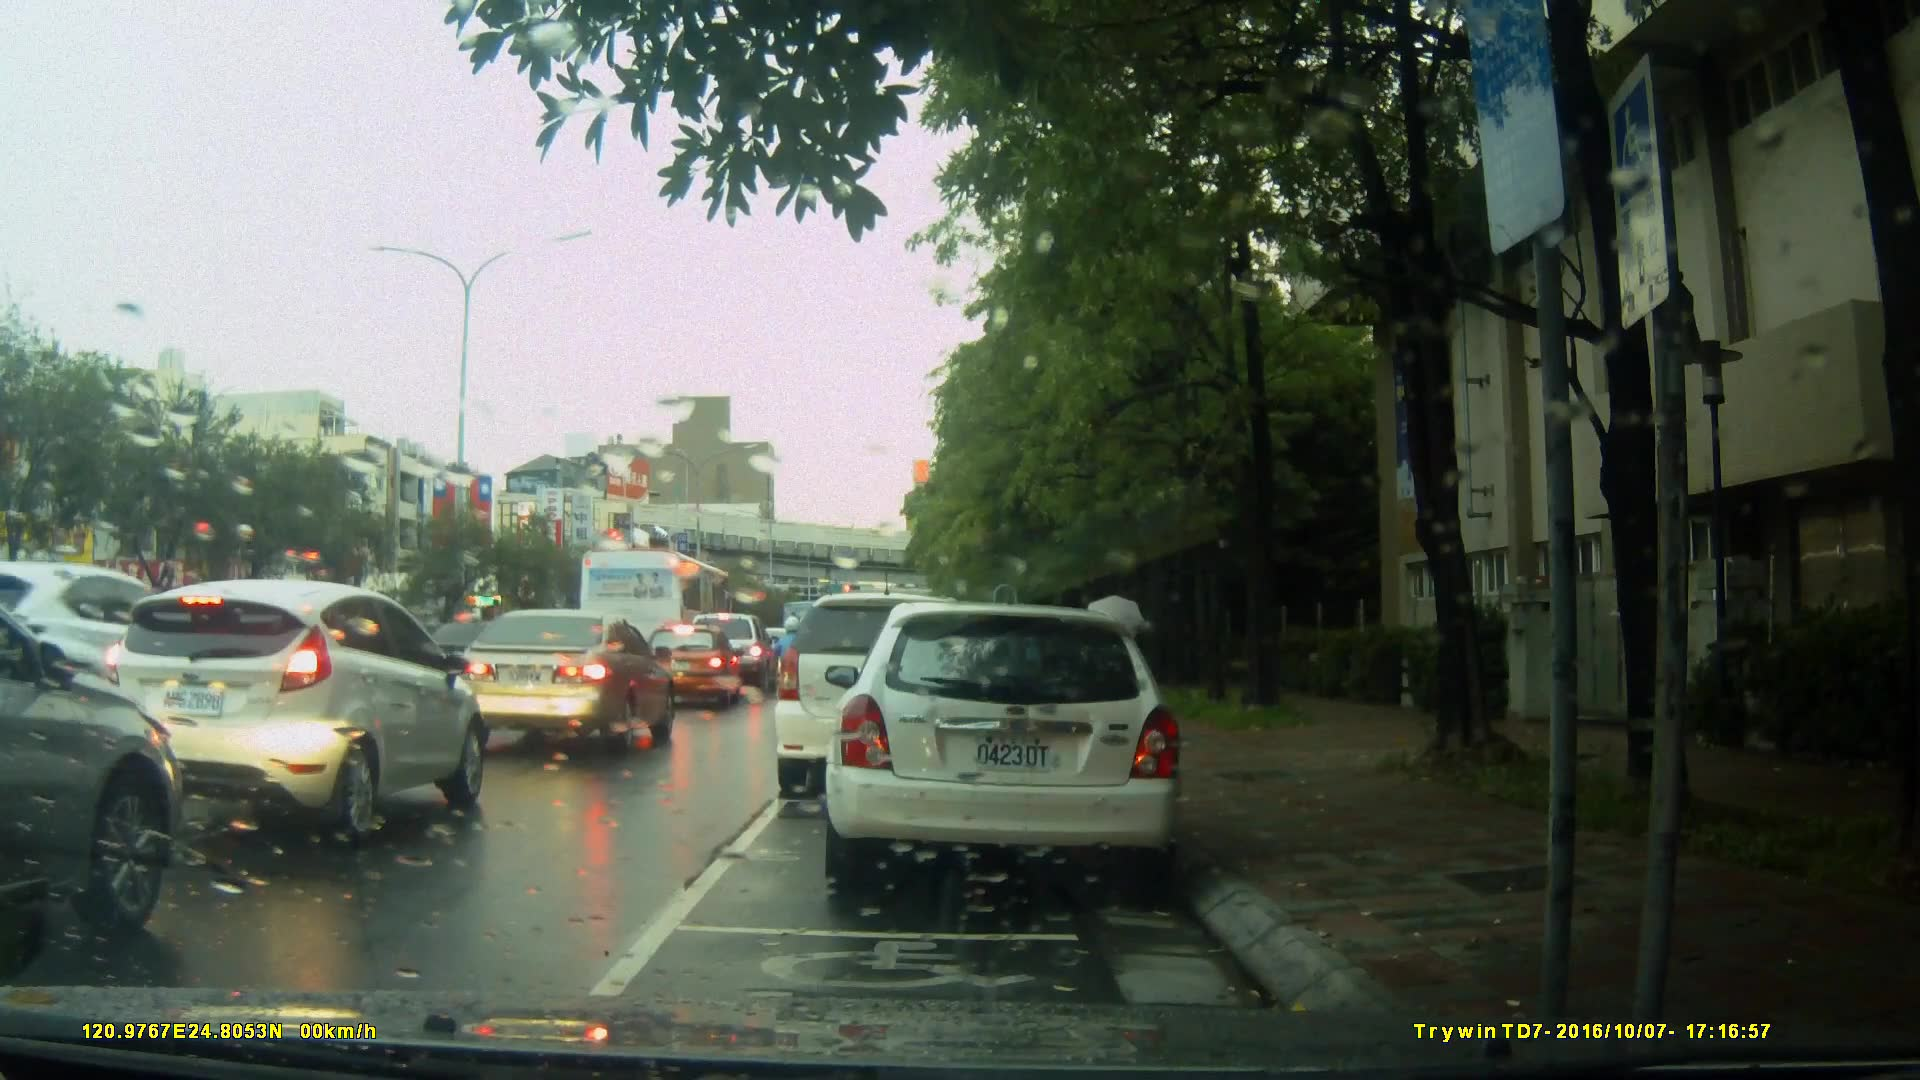vehicle: (835, 593, 1193, 898), (102, 579, 489, 844), (1, 547, 185, 971), (775, 589, 1026, 785), (3, 560, 200, 731), (454, 607, 678, 756), (579, 546, 736, 671), (640, 624, 742, 711)
